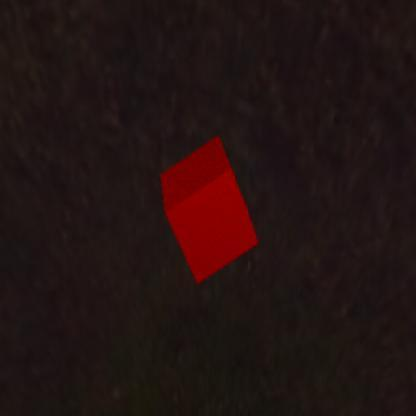red_cube: (160, 135, 259, 283)
